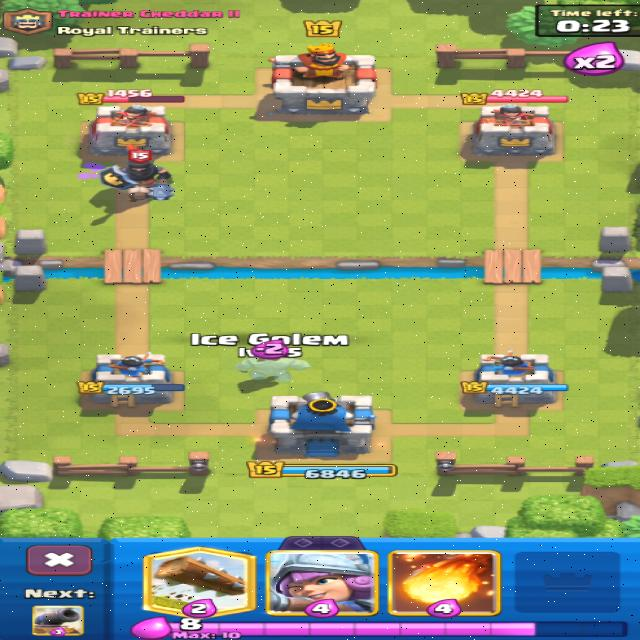Enemy-DarkPrince-Shield: (101, 147, 174, 201)
Enemy-KingTower: (269, 44, 376, 113)
Enemy-PrincessTower: (469, 105, 553, 161), (89, 105, 171, 155)
Player-KingTower: (269, 392, 376, 457)
Player-PrincessTower: (461, 351, 567, 408), (78, 353, 184, 407)
